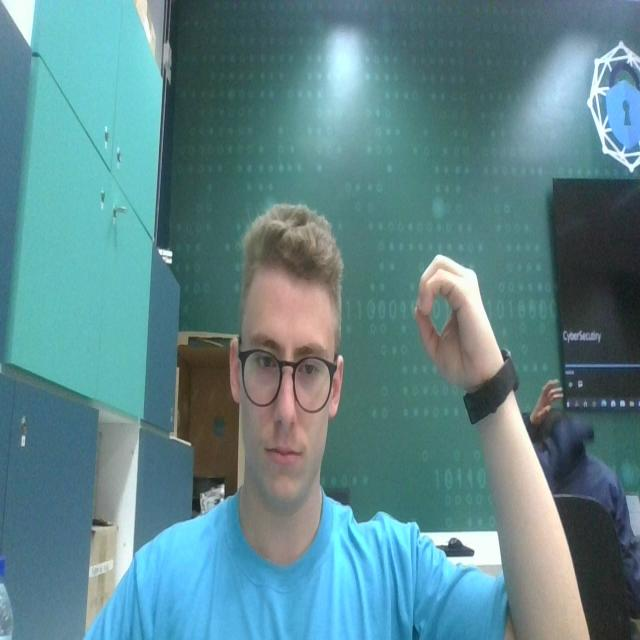O: (407, 235, 495, 398)
